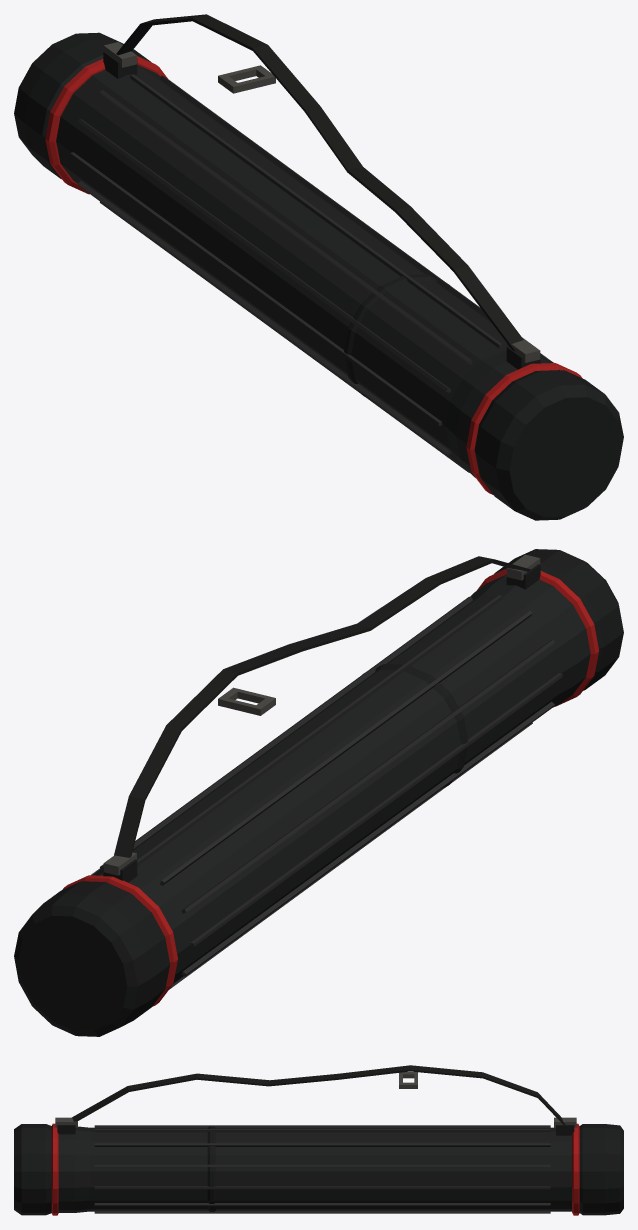
3 renders of one model, top to bottom at view 1: azimuth 30°, elevation 25°; view 2: azimuth 150°, elevation 25°; view 3: azimuth 270°, elevation 25°, orthographic. The views are drawn at different scales.
Parts seen in each view (by area): view 1: Drafting_Tube_Black_Red; view 2: Drafting_Tube_Black_Red; view 3: Drafting_Tube_Black_Red.
Part boxes in pixels (bbox=[...]): Drafting_Tube_Black_Red: bbox=[14, 14, 623, 520]; Drafting_Tube_Black_Red: bbox=[14, 549, 623, 1036]; Drafting_Tube_Black_Red: bbox=[14, 1065, 623, 1215].
Size of the model in its own units: 0.121 by 0.2147 by 0.8.
1 material, 1 textured.
